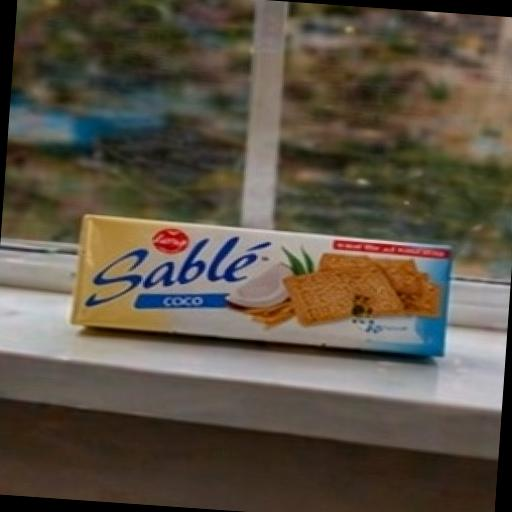sabl: (15, 170, 485, 418)
